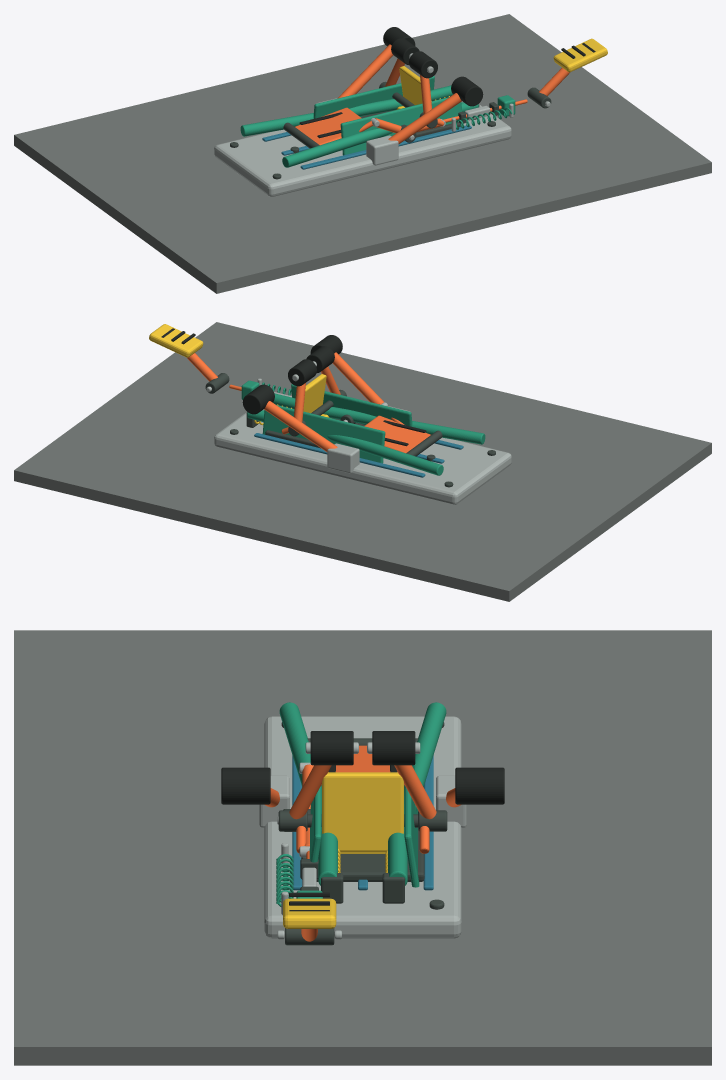
File: parking_assist_device_innovations.glb
3 renders of one model, top to bottom at view 1: azimuth 30°, elevation 25°; view 2: azimuth 150°, elevation 25°; view 3: azimuth 270°, elevation 25°, orthographic. The views are drawn at different scales.
Visible parts, largest first — view 1: 展示地面, 安装底板, 导轨立板, V形导轨.001, V形导轨, 导轨立板.001, 承压踏板, 防滑脚踏板, 防倾倒侧撑, 侧撑加强座, 防倾倒侧撑.001, 纵向排水槽 (+4 smaller); view 2: 展示地面, 安装底板, 导轨立板.001, V形导轨.001, 导轨立板, V形导轨, 承压踏板, 防滑脚踏板, 防倾倒侧撑.001, 侧撑加强座.001, 纵向排水槽.002, 防倾倒侧撑 (+4 smaller); view 3: 展示地面, 安装底板, 助力推轮板, 防倾倒包胶滚轮, 防倾倒包胶滚轮.001, 中央检修盖板, 包胶夹轮, 包胶夹轮.001, 防滑脚踏板, V形导轨.001, V形导轨, 导轨立板.001 (+12 smaller).
Boxes of the visible parts, left/top/right/bottom form: 展示地面: left=14, top=14, right=711, bottom=293; 安装底板: left=214, top=101, right=511, bottom=196; 导轨立板: left=340, top=97, right=461, bottom=155; V形导轨.001: left=240, top=99, right=402, bottom=136; V形导轨: left=282, top=128, right=392, bottom=167; 导轨立板.001: left=313, top=76, right=434, bottom=118; 承压踏板: left=295, top=107, right=361, bottom=145; 防滑脚踏板: left=553, top=38, right=607, bottom=72; 防倾倒侧撑: left=388, top=93, right=461, bottom=143; 侧撑加强座: left=366, top=135, right=398, bottom=165; 防倾倒侧撑.001: left=337, top=44, right=393, bottom=98; 纵向排水槽: left=300, top=125, right=471, bottom=169; 展示地面: left=14, top=322, right=711, bottom=601; 安装底板: left=214, top=409, right=511, bottom=504; 导轨立板.001: left=262, top=405, right=385, bottom=463; V形导轨.001: left=327, top=435, right=443, bottom=475; 导轨立板: left=291, top=384, right=412, bottom=426; V形导轨: left=323, top=407, right=485, bottom=444; 承压踏板: left=364, top=415, right=430, bottom=453; 防滑脚踏板: left=149, top=324, right=203, bottom=357; 防倾倒侧撑.001: left=264, top=401, right=337, bottom=451; 侧撑加强座.001: left=327, top=443, right=359, bottom=473; 纵向排水槽.002: left=254, top=433, right=425, bottom=477; 防倾倒侧撑: left=332, top=352, right=388, bottom=406; 展示地面: left=14, top=630, right=711, bottom=1065; 安装底板: left=264, top=716, right=461, bottom=938; 助力推轮板: left=322, top=772, right=403, bottom=851; 防倾倒包胶滚轮: left=221, top=767, right=270, bottom=804; 防倾倒包胶滚轮.001: left=455, top=767, right=504, bottom=804; 中央检修盖板: left=301, top=810, right=424, bottom=881; 包胶夹轮: left=310, top=731, right=353, bottom=765; 包胶夹轮.001: left=372, top=731, right=415, bottom=765; 防滑脚踏板: left=283, top=898, right=336, bottom=928; V形导轨.001: left=404, top=702, right=446, bottom=830; V形导轨: left=279, top=702, right=321, bottom=830; 导轨立板.001: left=404, top=765, right=419, bottom=887.
Size of the model in its own units: 2.4 by 0.452 by 1.7.
